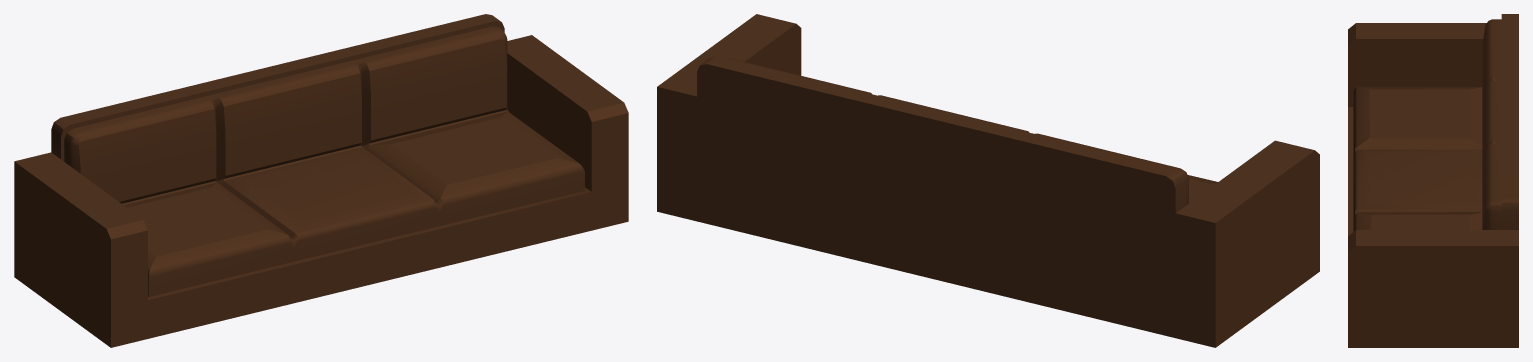
The model's file is hub_couch_threeseat.fbx.
3 renders of one model, left to right at view 1: azimuth 30°, elevation 25°; view 2: azimuth 150°, elevation 25°; view 3: azimuth 270°, elevation 25°, orthographic. The views are drawn at different scales.
Visible parts, largest first — view 1: hub_couch_threeseat; view 2: hub_couch_threeseat; view 3: hub_couch_threeseat.
Part boxes in pixels (x1=…): hub_couch_threeseat: x1=14, y1=14, x2=628, y2=347; hub_couch_threeseat: x1=657, y1=14, x2=1319, y2=347; hub_couch_threeseat: x1=1348, y1=14, x2=1518, y2=347.
Bounding box in the file's own units: 4.2 × 1.15 × 1.36.
